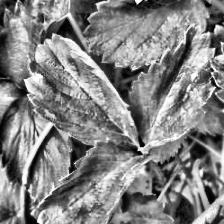Powdery Mildew Leaf: (24, 31, 142, 150), (130, 22, 218, 152), (82, 0, 209, 71), (161, 177, 224, 224)
